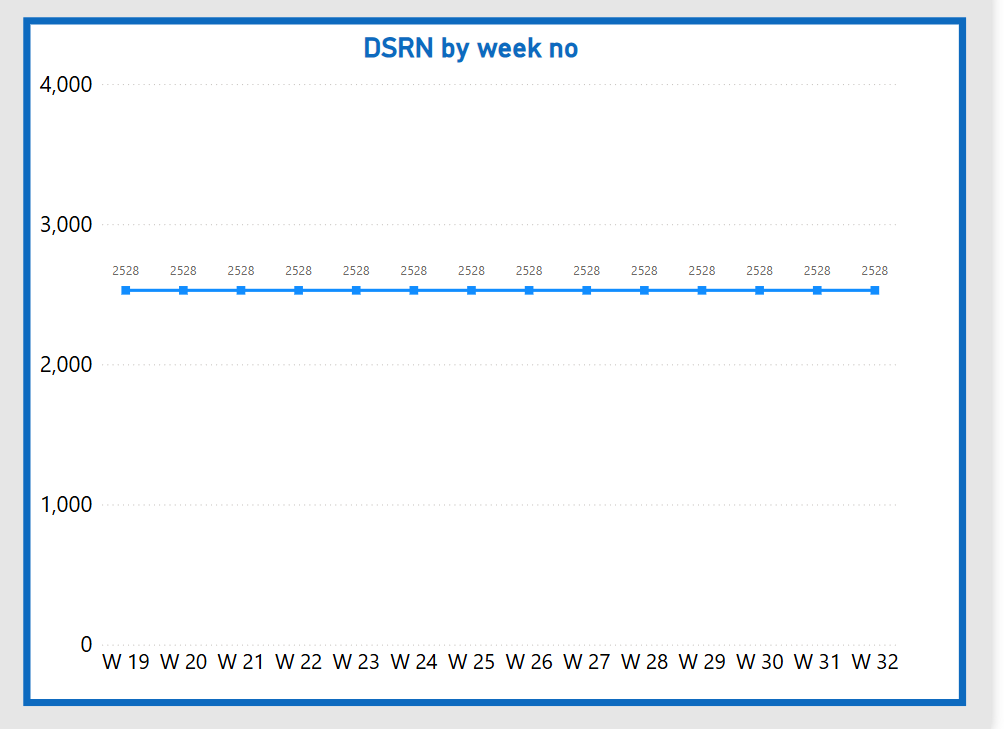

What the dashboard file says about the page in this screenshot:
{"tool":"powerbi","page":{"name":"Tooltip DSRN","canvas":[960,720],"ordinal":3},"visuals":[{"type":"shape","box":[25,30,910,665],"z":0},{"type":"lineChart","fields":{"Category":["dim_date.week no"],"Y":["key_measure.DSRN"]},"box":[36.7,44,842.5,633.4],"z":1000}]}

Visuals, with their boxes on the page's 960x720 design canvas (x1, y1, x2, y2). These are canvas units, not pixel positions in the 1004x729 screenshot, which may show the page scaled, cropped or inside an application window:
shape: [25,30,935,695]
lineChart - dim_date.week no x key_measure.DSRN: [37,44,879,677]
